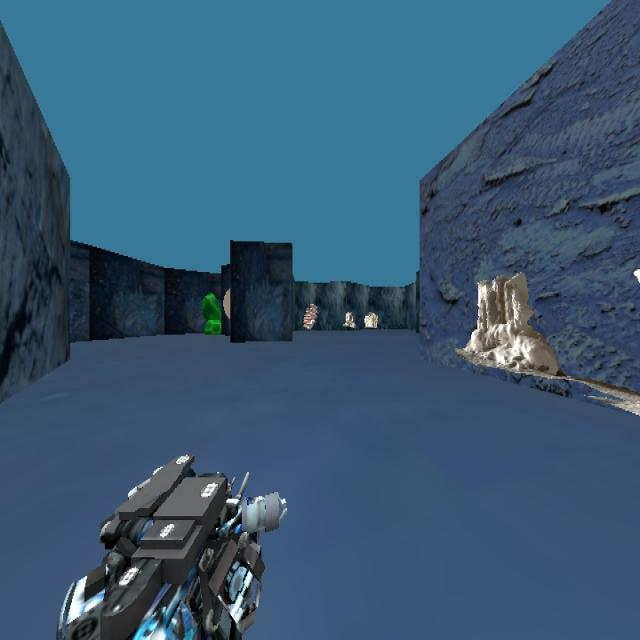Diamon: (200, 290, 222, 334)
Ice: (455, 271, 565, 378)
Stop_Sign: (302, 302, 318, 330)
